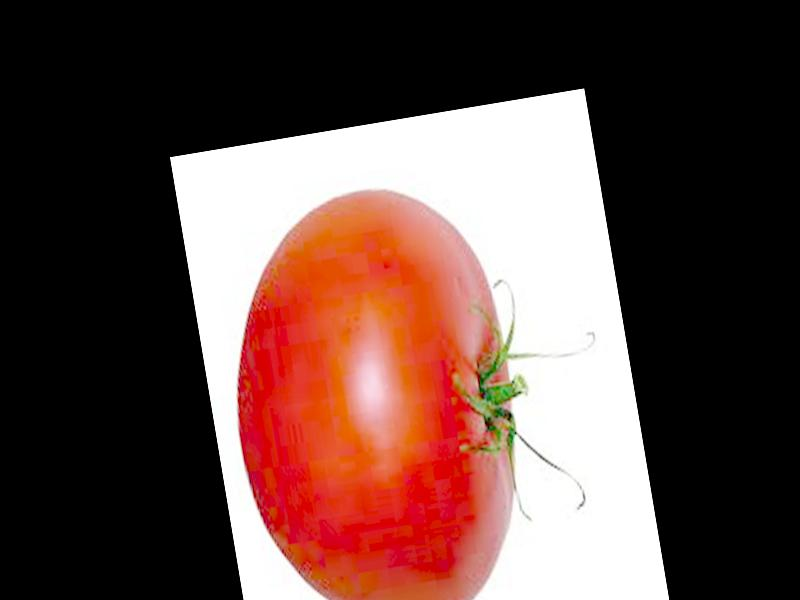Tomato: (205, 176, 546, 600)
